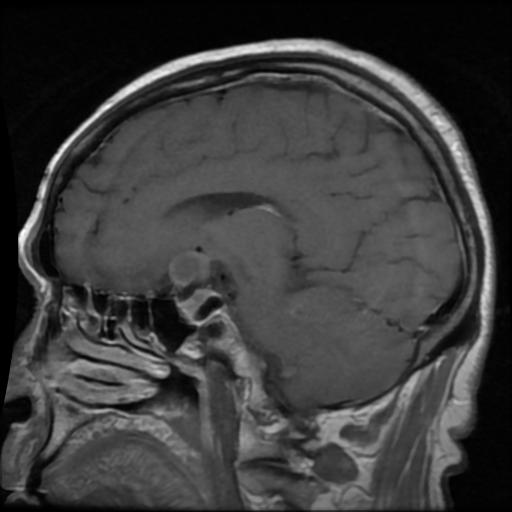Pituirity_tumour: (168, 248, 211, 285)
